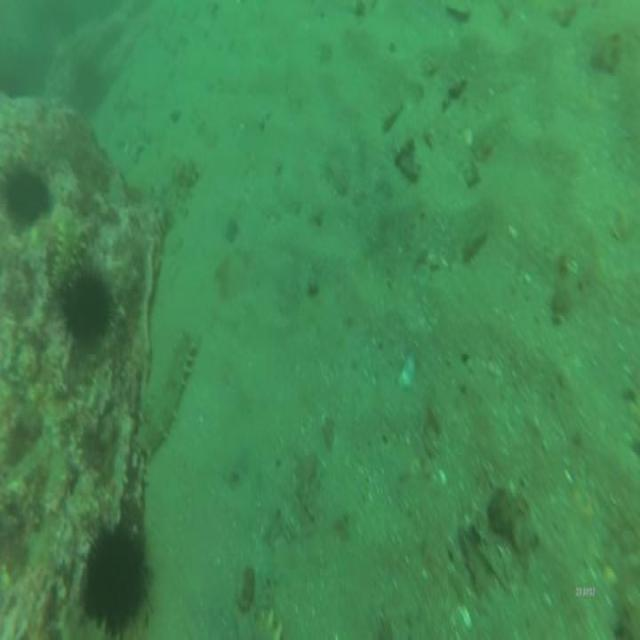echinus: (73, 499, 158, 640), (59, 258, 118, 350), (4, 150, 55, 237)
holothurian: (132, 321, 200, 463), (47, 215, 83, 295)
